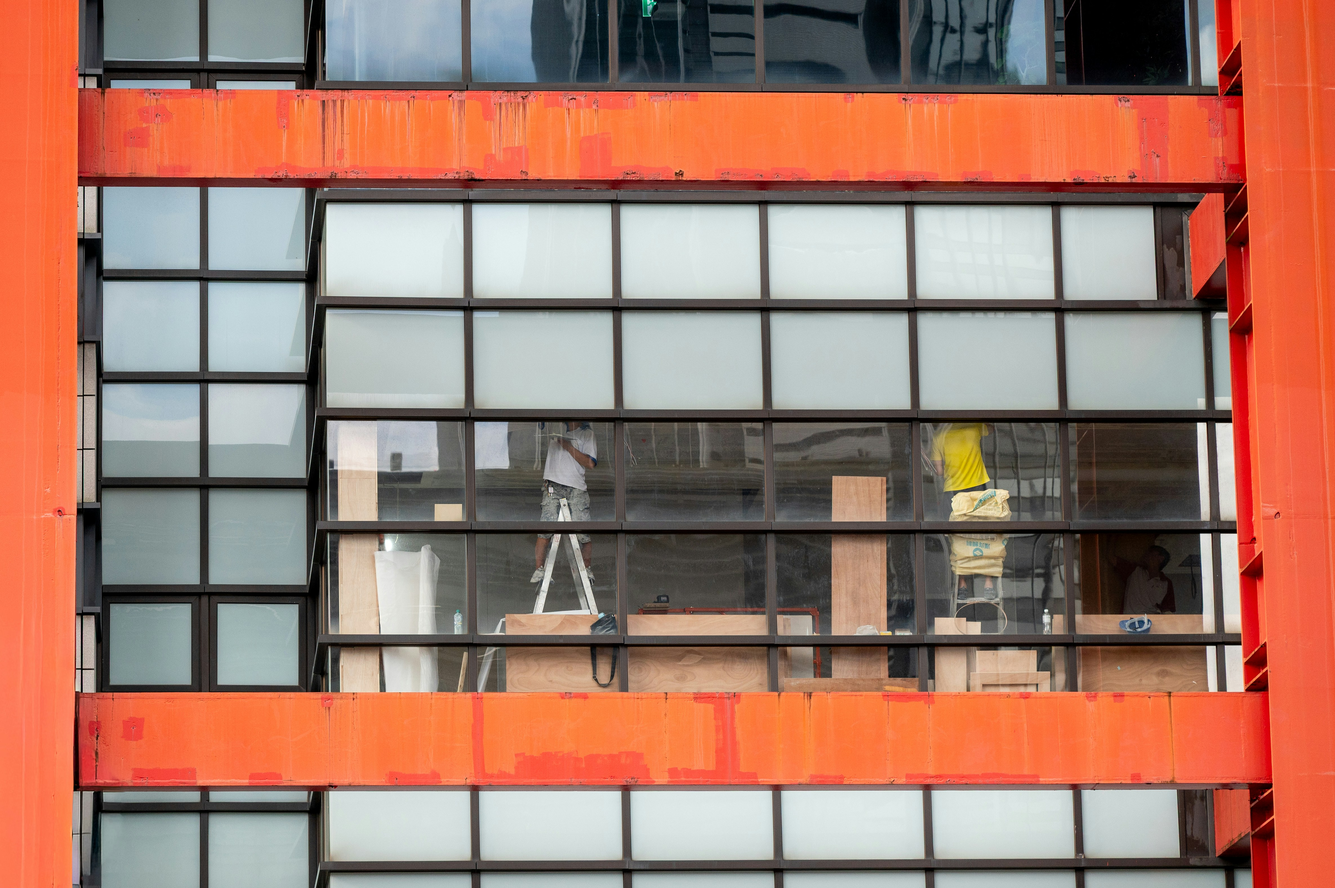glass panel: (477, 534, 618, 640), (921, 534, 1069, 634), (626, 534, 769, 636), (622, 309, 763, 410), (922, 422, 1065, 521), (475, 420, 615, 521), (473, 311, 614, 411), (917, 311, 1058, 410), (624, 422, 765, 521), (1064, 311, 1204, 410), (324, 309, 464, 408), (327, 420, 464, 521), (771, 311, 910, 410), (773, 422, 912, 521), (776, 535, 915, 634), (331, 534, 466, 635), (1070, 423, 1209, 521), (323, 202, 463, 298), (620, 203, 760, 299), (473, 202, 612, 298), (768, 204, 907, 299), (915, 206, 1054, 299), (1060, 205, 1187, 300), (209, 488, 306, 586), (102, 487, 199, 585), (208, 383, 306, 477), (103, 384, 201, 476), (103, 281, 199, 372), (208, 282, 305, 372), (208, 188, 304, 271), (103, 187, 200, 269), (214, 601, 299, 686), (109, 602, 193, 686), (341, 649, 437, 691)
